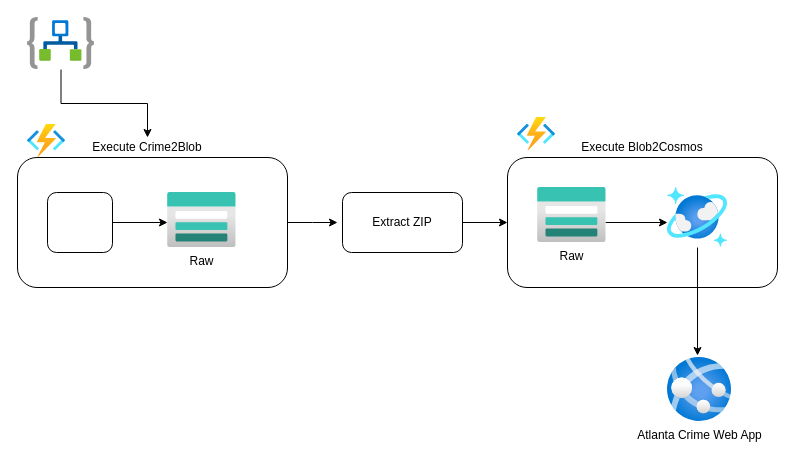
The diagram is 795 pixels wide and 459 high, and some of its shapes have lost their labels. Each missing label, with the centre of its shape:
"Atlanta PD" belongs at pixel 79 222.
"Every Friday morning" belongs at pixel 60 43.
